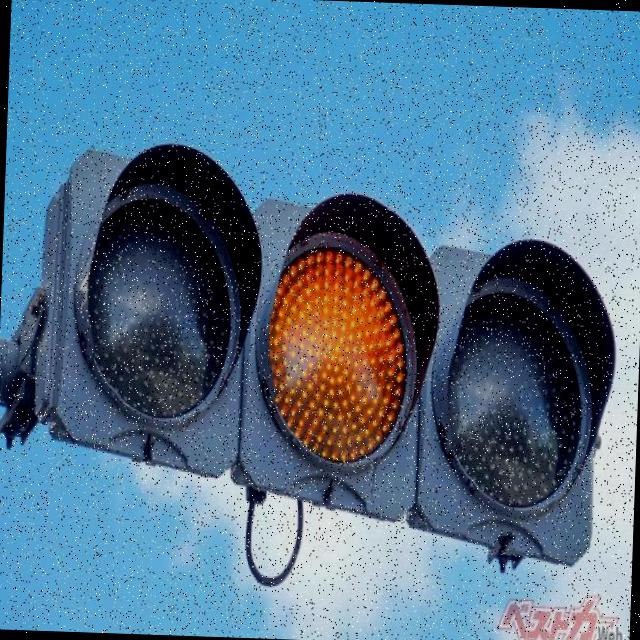yellow_light: (267, 196, 425, 478), (260, 232, 342, 383), (349, 412, 423, 492)
